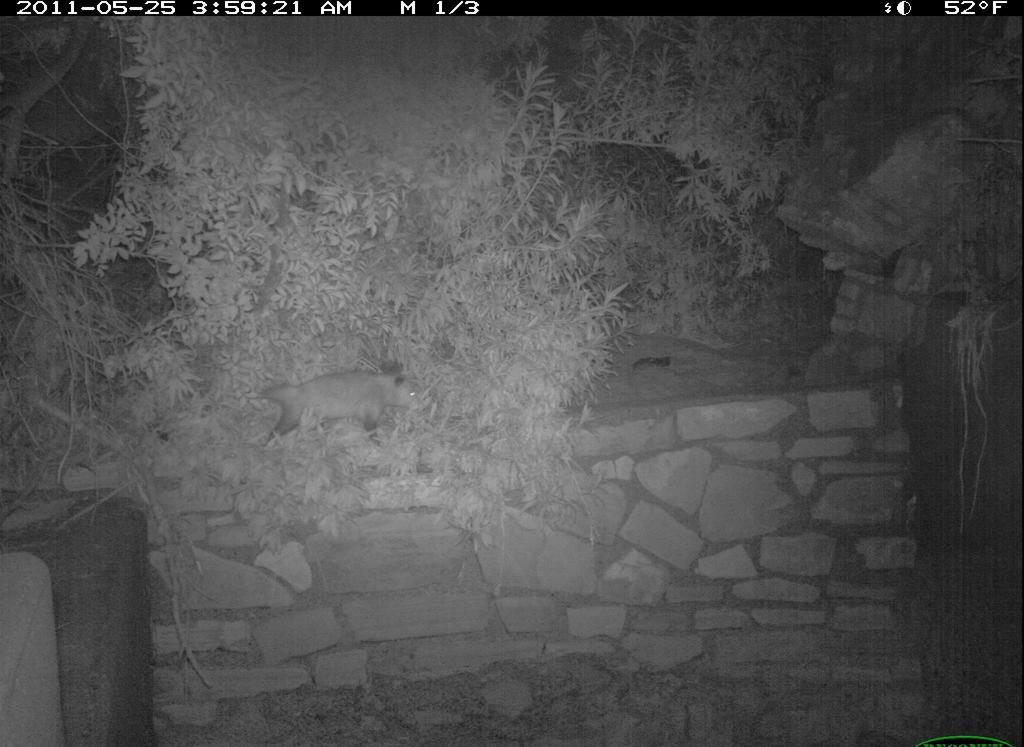opossum: (245, 356, 431, 463)
